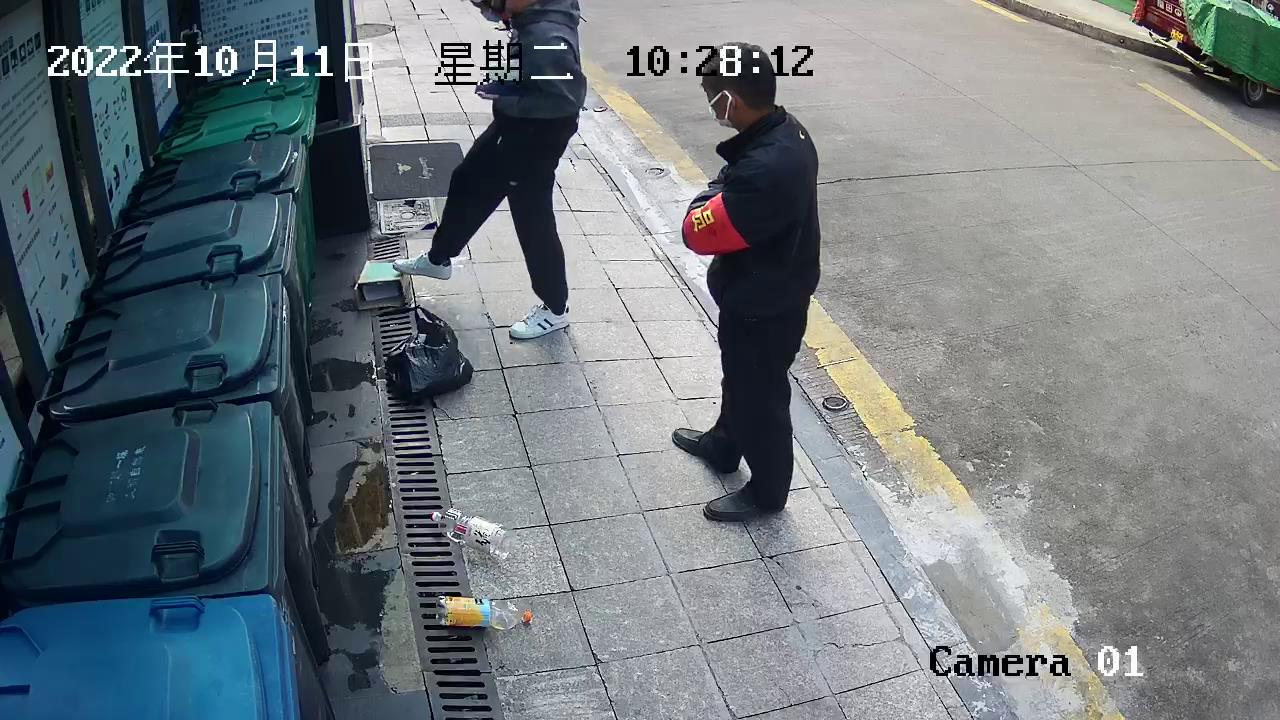garbage-bag: (381, 302, 480, 408)
suliaozhipin: (425, 505, 516, 566), (430, 587, 536, 635)
worker: (664, 34, 829, 530)
zhizhipin: (348, 253, 423, 315)
